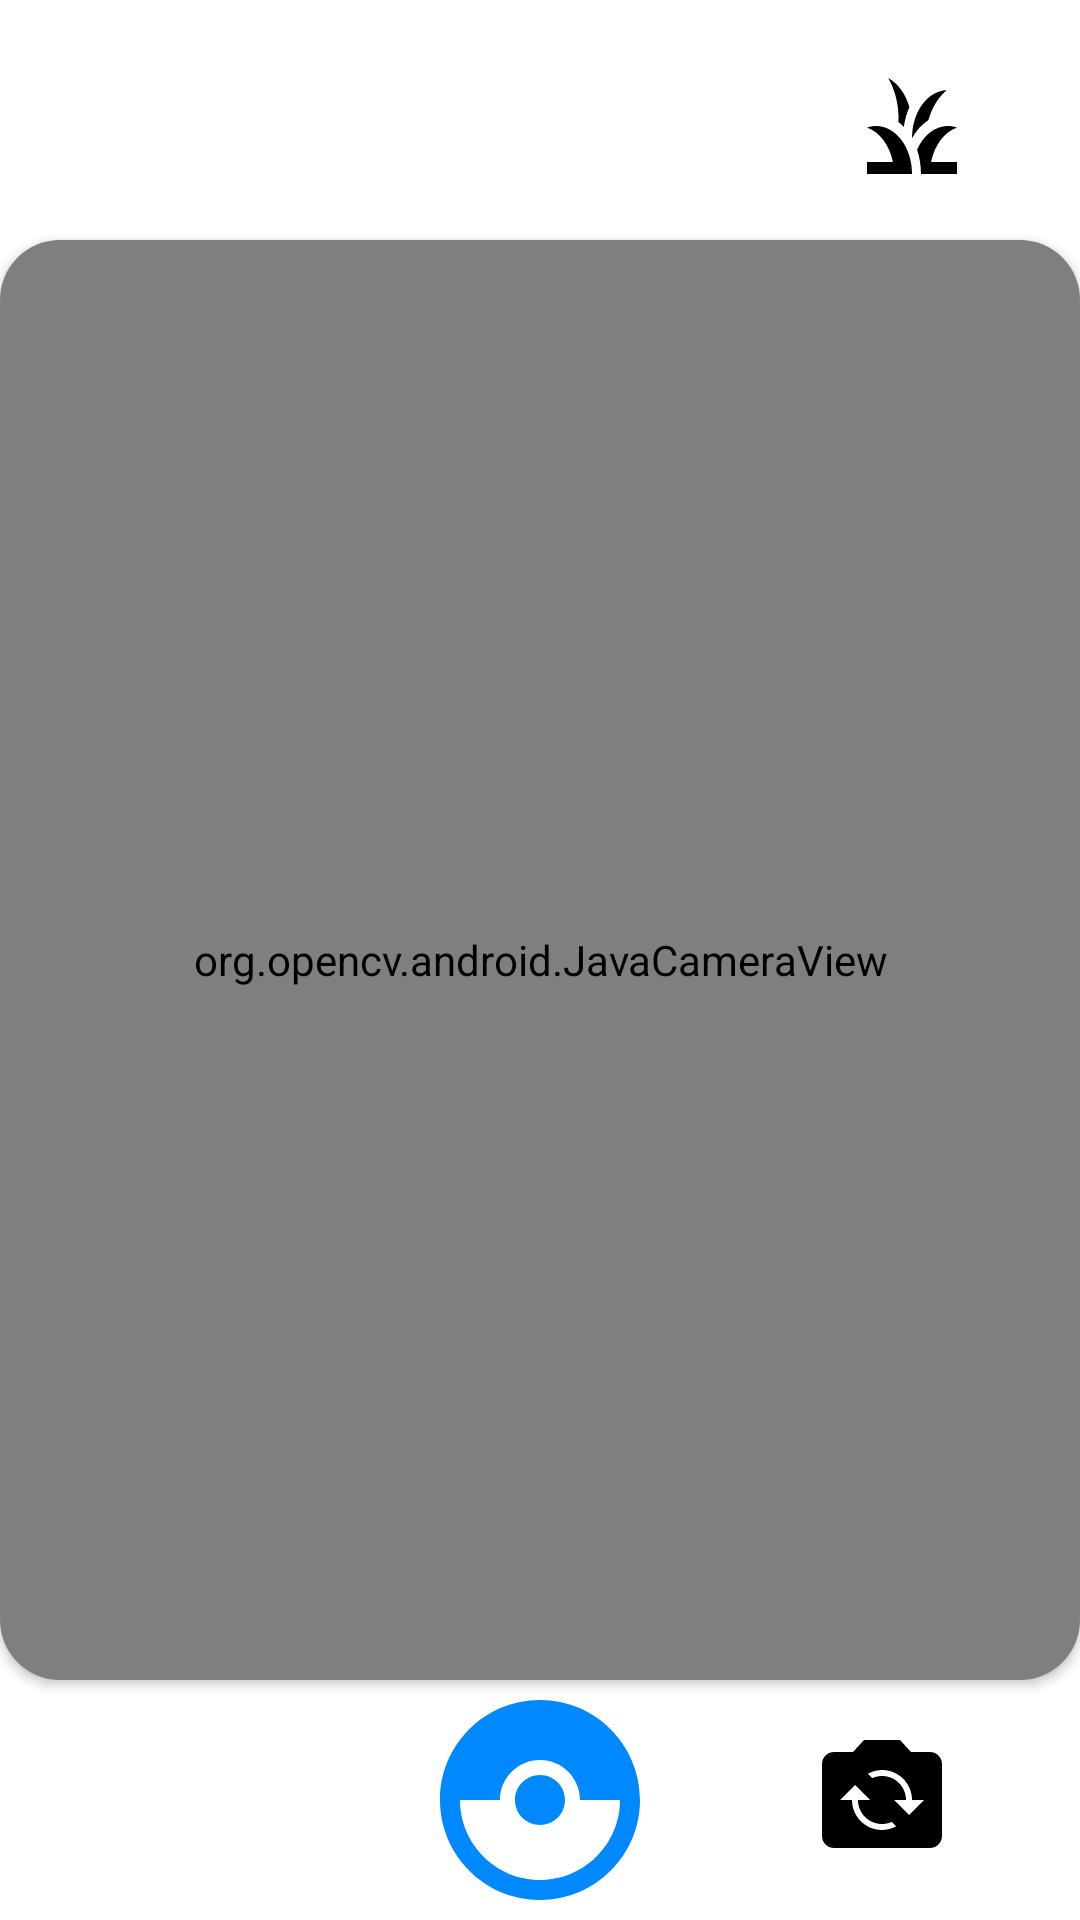

Screen size 1080 × 1920. Icon name, then its box in pixels as (x1, y1, x2, y2):
flip camera: (822, 1740, 942, 1848)
grass: (867, 78, 957, 174)
